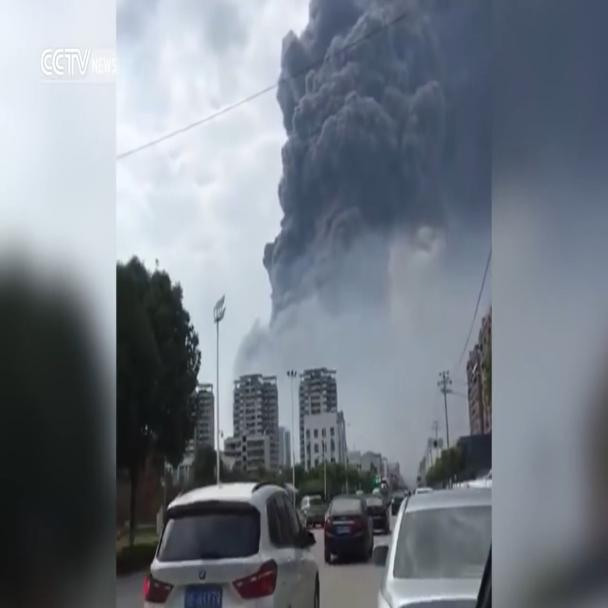smoke: (209, 0, 489, 599)
